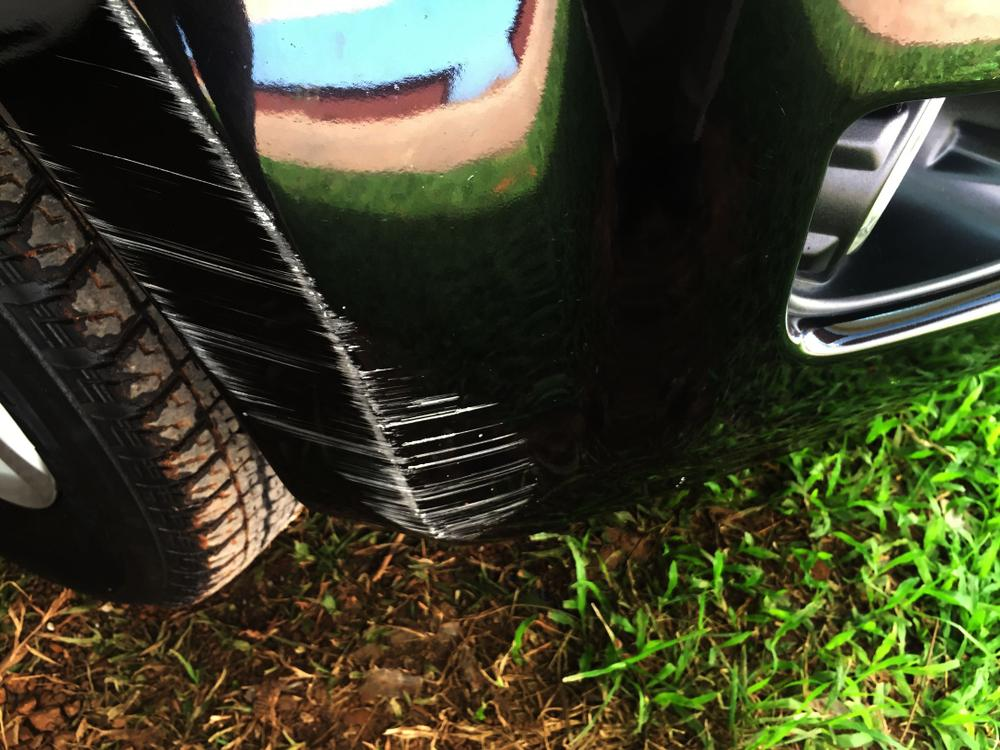scratch: (0, 0, 539, 539)
